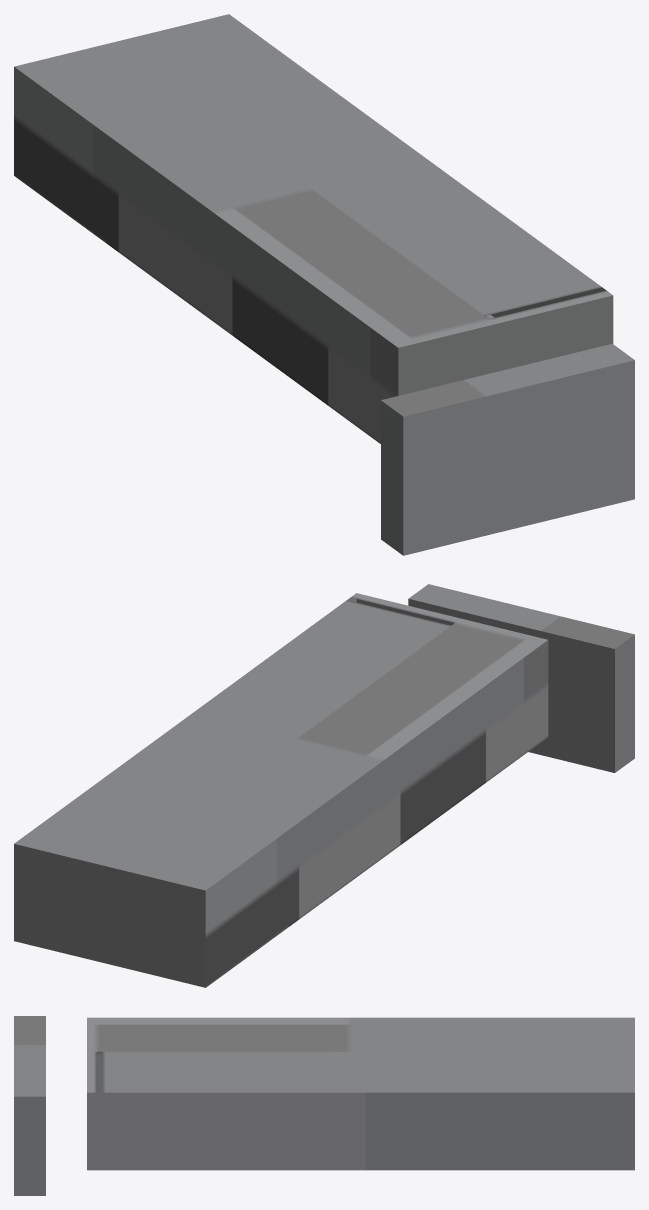
3 renders of one model, top to bottom at view 1: azimuth 30°, elevation 25°; view 2: azimuth 150°, elevation 25°; view 3: azimuth 270°, elevation 25°, orthographic. The views are drawn at different scales.
Bounding box in the file's own units: 0.4 × 0.2332 × 1.16.
